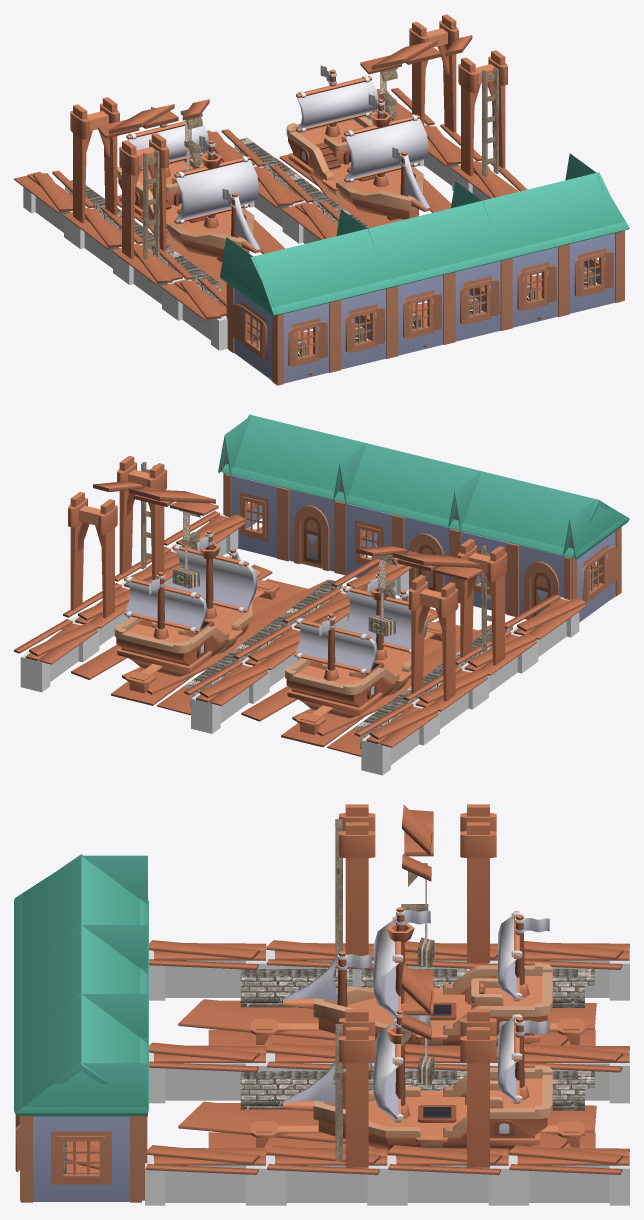
The model's file is london_bld_arsenal.glb.
3 renders of one model, top to bottom at view 1: azimuth 30°, elevation 25°; view 2: azimuth 150°, elevation 25°; view 3: azimuth 270°, elevation 25°, orthographic. The views are drawn at different scales.
Parts seen in each view (by area): view 1: wall-window-shutters (×7), roof-gable (×3), platform-planks (×14), ship-medium (×2), wood-support (×4), sail-a (×2), Grey_Wall_01 (×6), sail-b (×2), roof-gable-end (×4), ladder (×2), dock-side (×3); view 2: platform-planks (×16), roof-gable (×3), wood-support (×6), ship-medium (×2), wall-window-shutters (×4), Grey_Wall_01 (×8), wall-door (×3), sail-b (×2), sail-a (×2), roof-gable-end (×4), dock-side (×4), door (×3) (+2 smaller); view 3: platform-planks (×17), Grey_Wall_01 (×8), ship-medium (×2), roof-gable (×3), wood-support (×8), roof-gable-end (×4), dock-side (×6), wall-window-shutters, sail-a (×2), sail-b (×2), ladder (×2), pulley-crate (×2).
Part boxes in pixels (<box>): wall-window-shutters (×7): <box>228,231,621,385</box>; roof-gable (×3): <box>239,172,626,315</box>; platform-planks (×14): <box>14,35,527,320</box>; ship-medium (×2): <box>117,69,431,258</box>; wood-support (×4): <box>70,14,507,258</box>; sail-a (×2): <box>174,114,428,223</box>; Grey_Wall_01 (×6): <box>23,125,481,350</box>; sail-b (×2): <box>126,76,378,170</box>; roof-gable-end (×4): <box>220,153,629,316</box>; ladder (×2): <box>143,67,498,259</box>; dock-side (×3): <box>163,138,341,303</box>; platform-planks (×16): <box>14,481,586,756</box>; roof-gable (×3): <box>222,414,610,558</box>; wood-support (×6): <box>68,455,507,734</box>; ship-medium (×2): <box>114,530,430,718</box>; wall-window-shutters (×4): <box>225,474,621,622</box>; Grey_Wall_01 (×8): <box>20,586,579,775</box>; wall-door (×3): <box>282,488,571,619</box>; sail-b (×2): <box>124,576,377,674</box>; sail-a (×2): <box>172,544,427,653</box>; roof-gable-end (×4): <box>218,415,629,560</box>; dock-side (×4): <box>186,579,414,748</box>; door (×3): <box>300,513,552,617</box>; platform-planks (×17): <box>67,805,629,1174</box>; Grey_Wall_01 (×8): <box>145,950,629,1205</box>; ship-medium (×2): <box>283,907,552,1151</box>; roof-gable (×3): <box>14,854,148,1111</box>; wood-support (×8): <box>251,804,584,1167</box>; roof-gable-end (×4): <box>14,855,147,1116</box>; dock-side (×6): <box>240,969,594,1110</box>; wall-window-shutters: <box>20,1116,141,1202</box>; sail-a (×2): <box>373,915,403,1122</box>; sail-b (×2): <box>498,911,522,1103</box>; ladder (×2): <box>335,819,342,1161</box>; pulley-crate (×2): <box>401,904,434,1085</box>.
Bounding box in the file's own units: 18 × 6.55 × 20.33.
Materials: 19 (17 with a texture image).
